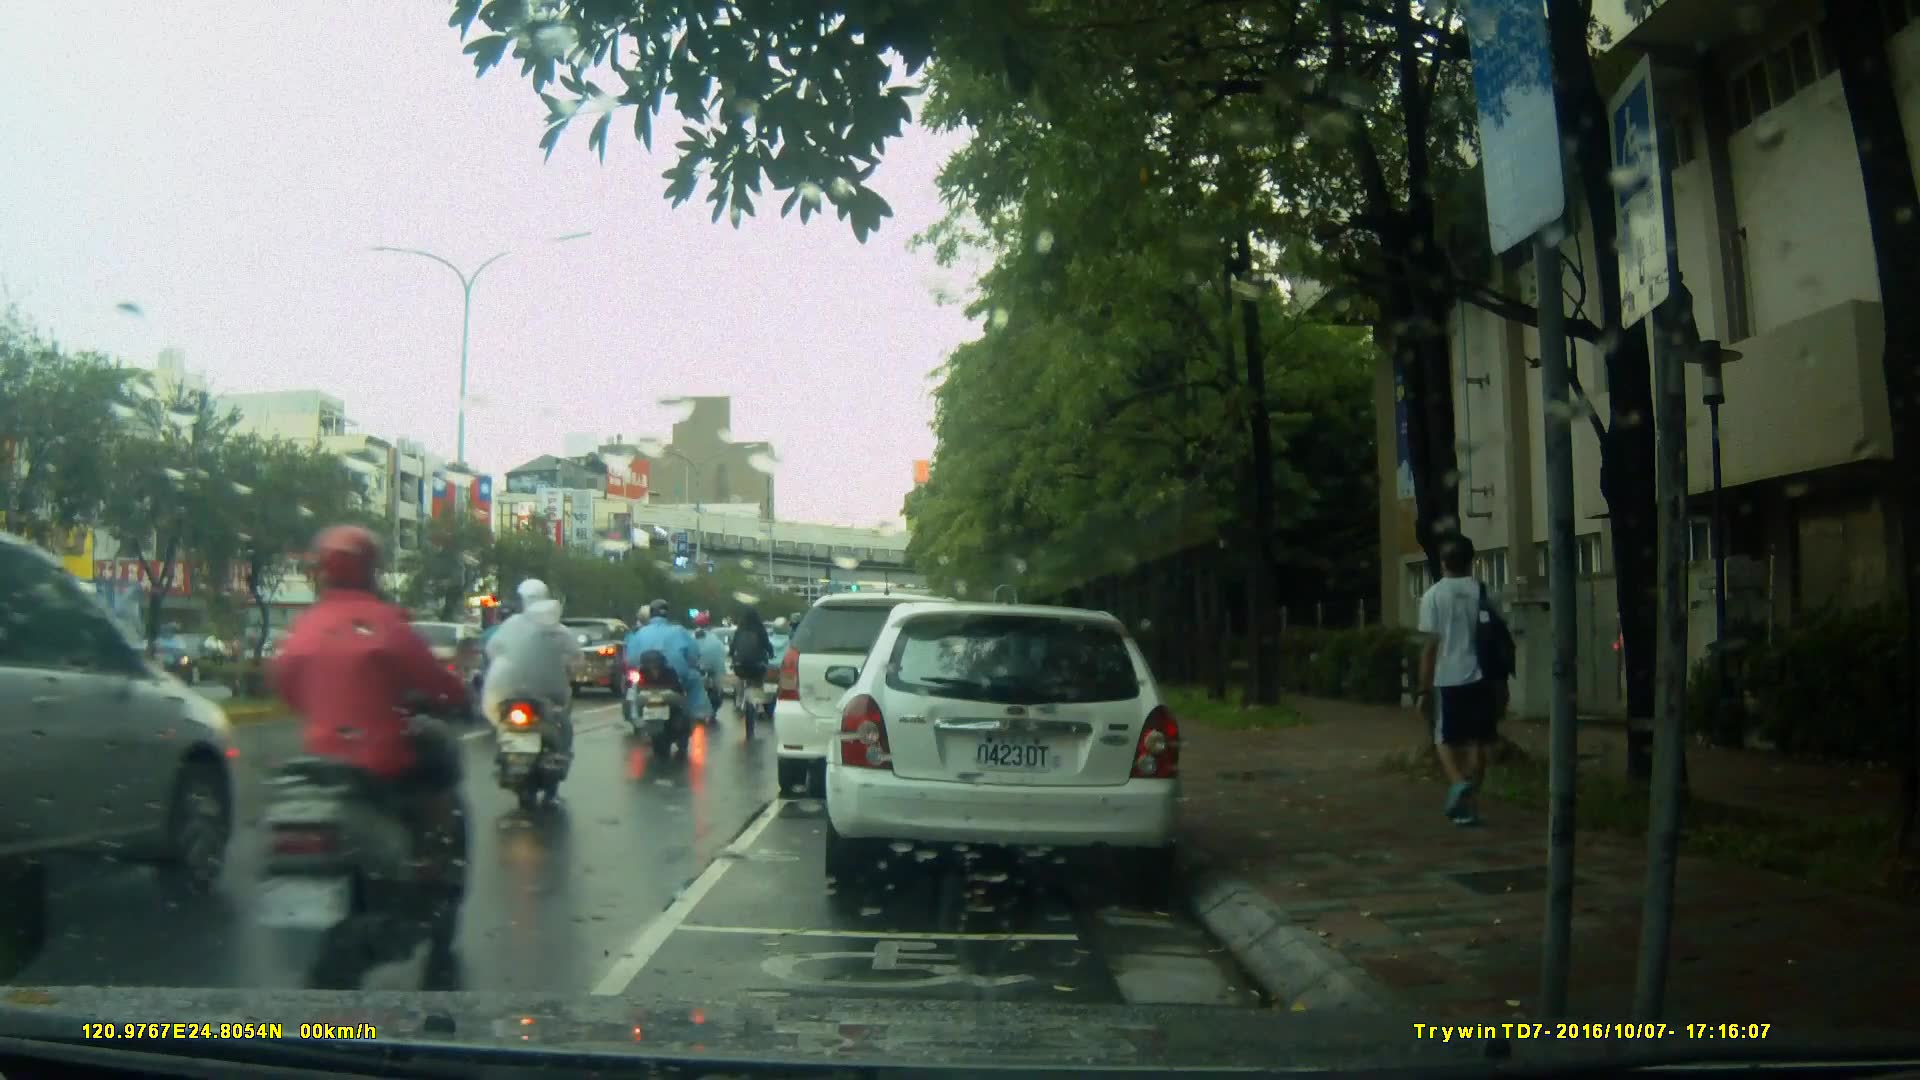pedestrian: (1419, 522, 1527, 859)
rider: (244, 510, 492, 1005), (482, 581, 583, 814), (635, 604, 707, 759), (732, 604, 780, 755), (475, 606, 522, 736), (678, 607, 731, 718)
vehicle: (822, 604, 1188, 882), (1, 534, 242, 927), (774, 595, 995, 802), (353, 619, 515, 724), (539, 617, 654, 704), (144, 630, 241, 686)
